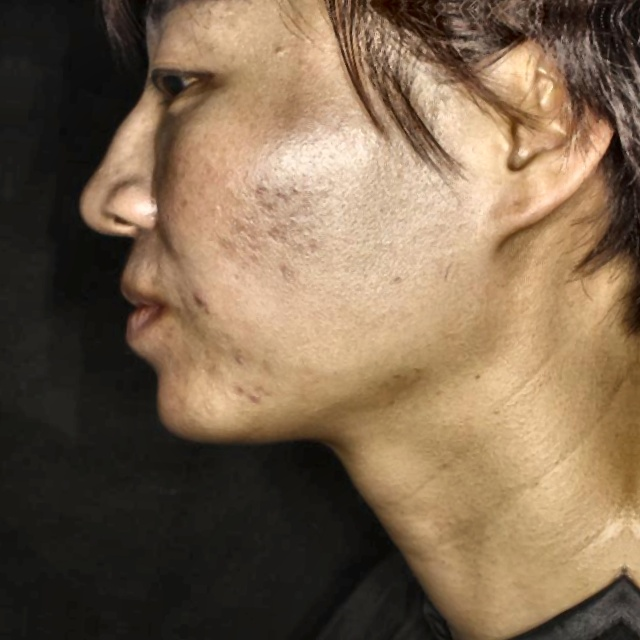comedone: (181, 287, 221, 324), (231, 376, 266, 413)
